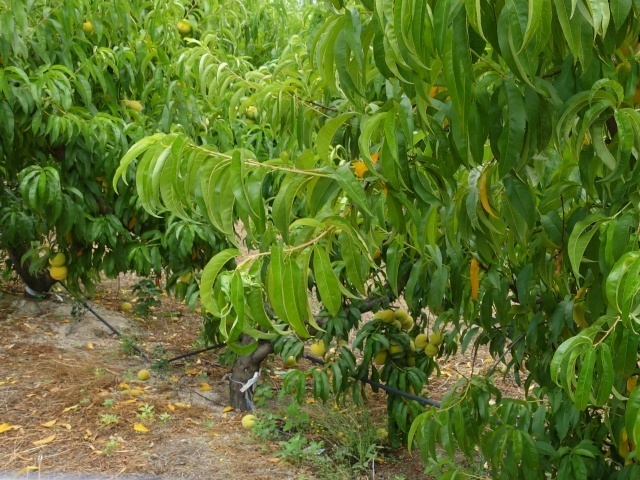peach: (44, 249, 68, 271), (371, 348, 392, 369), (305, 339, 327, 359), (46, 264, 68, 283), (413, 330, 431, 352), (390, 303, 409, 323), (428, 330, 446, 349), (377, 308, 396, 326), (423, 342, 441, 359)
